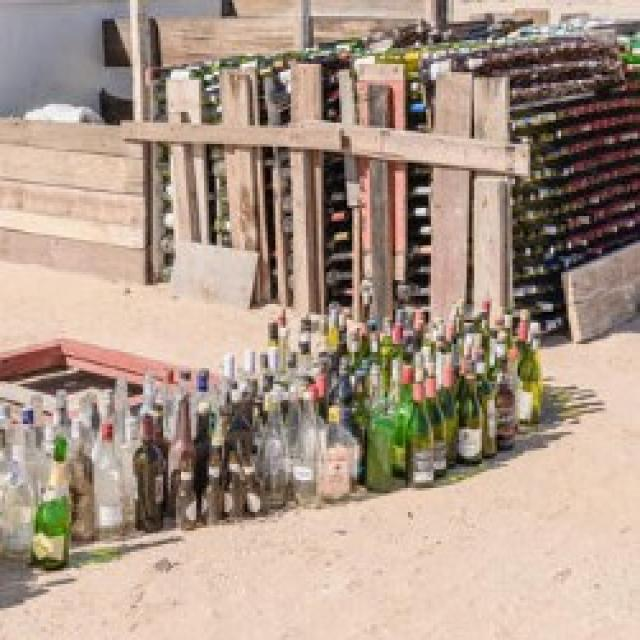electronic: (0, 292, 554, 576)
